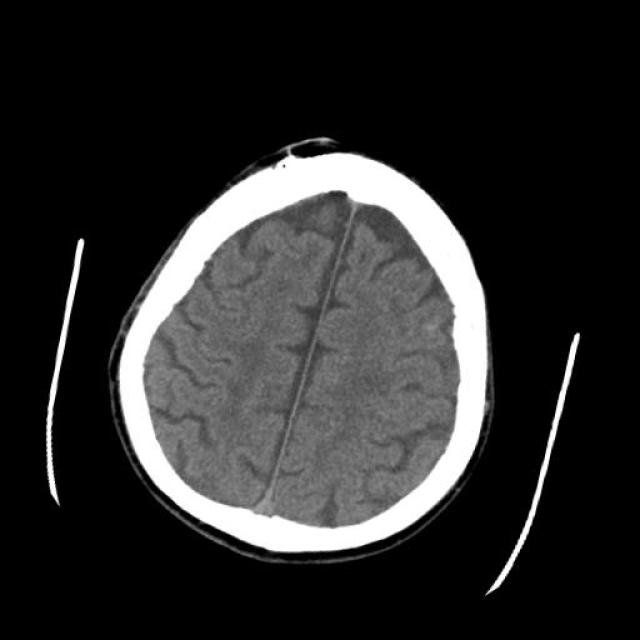Subdural: (266, 166, 460, 272)
